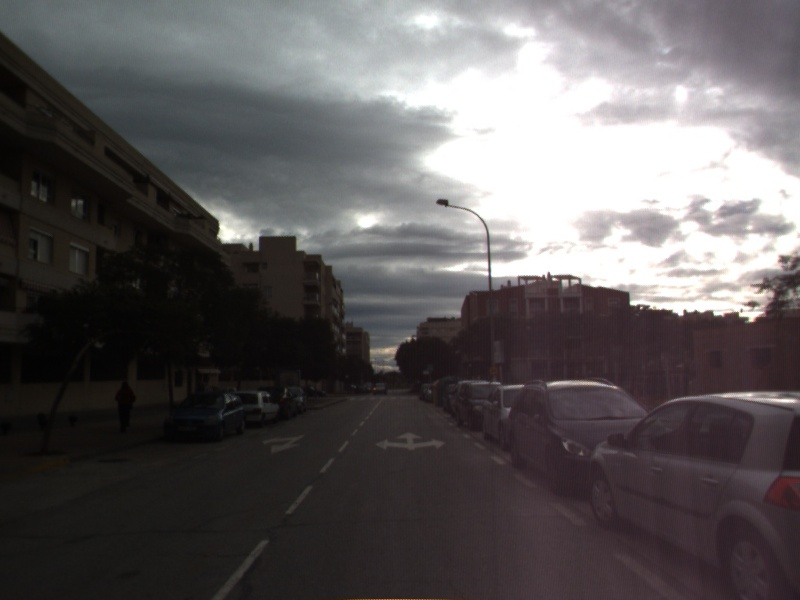STRAIGHT_LEFT_RIGHT: (374, 429, 448, 453)
